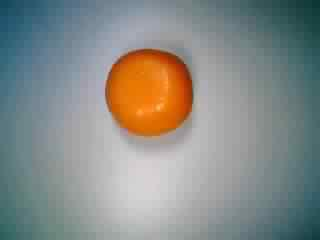orange: (100, 40, 195, 142)
